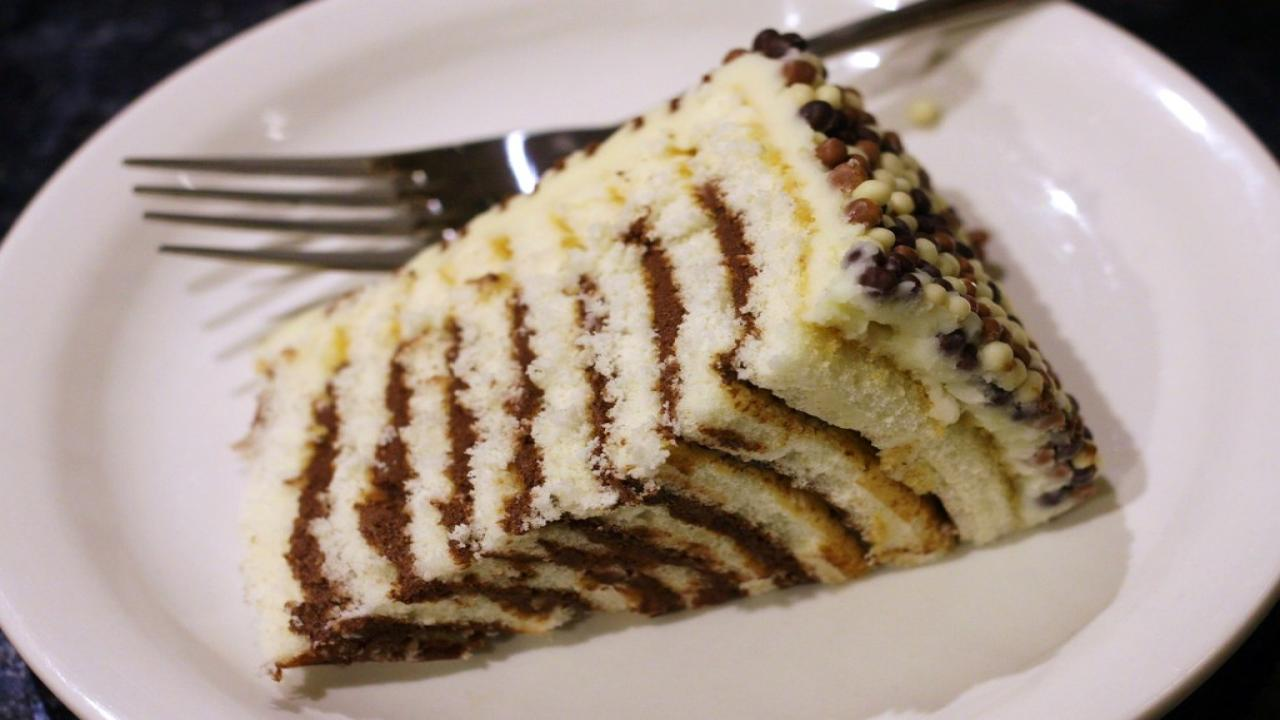fork: (125, 129, 604, 273)
